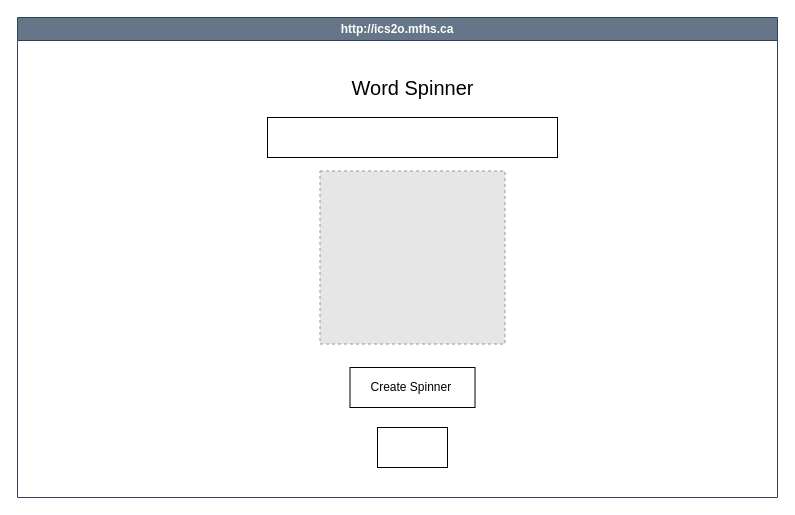
Image size: 795x515. Some labels were removed from this diagram. Grey dashed boxes stand in for pictures. The centre of each missing label's shape, as x and y in pixels:
"Spin" belongs at [412,447].
"Type words separated by commas" belongs at [412,137].
